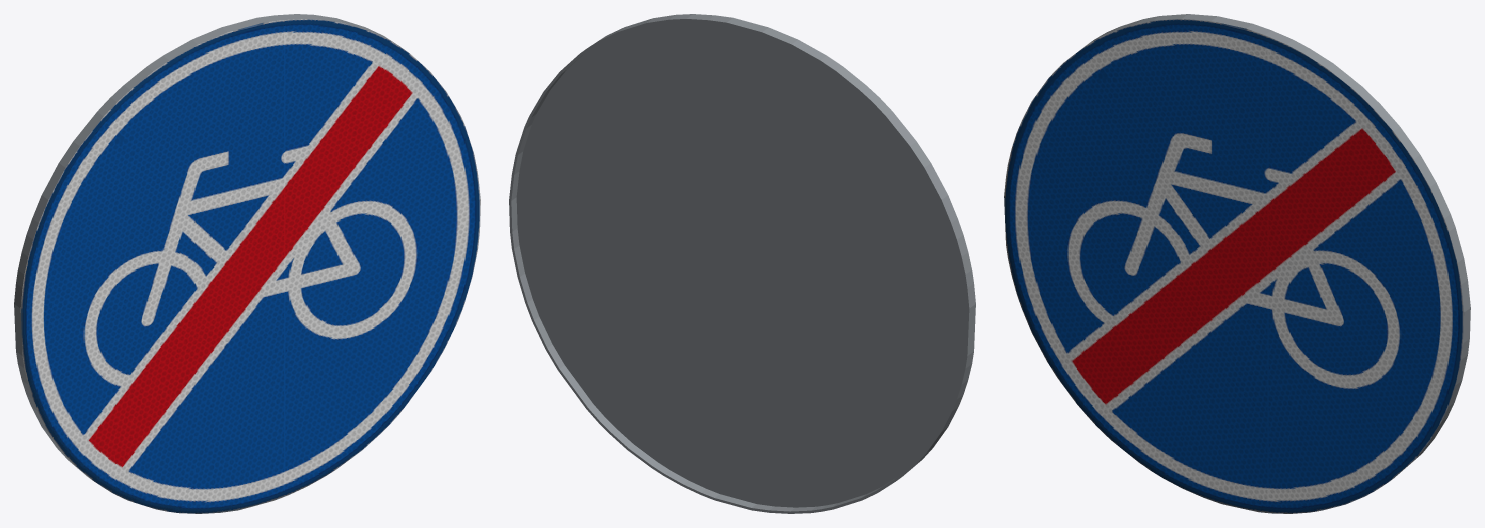
The picture shows the model from 3 angles, left to right: view 1: azimuth 30°, elevation 25°; view 2: azimuth 150°, elevation 25°; view 3: azimuth 330°, elevation 25°; orthographic projection.
Parts seen in each view (by area): view 1: cat_694b2542aed767f1; view 2: cat_694b2542aed767f1; view 3: cat_694b2542aed767f1.
Boxes of the visible parts, bbox=[...] form: cat_694b2542aed767f1: bbox=[14, 14, 480, 513]; cat_694b2542aed767f1: bbox=[509, 14, 975, 513]; cat_694b2542aed767f1: bbox=[1004, 14, 1470, 513].
Bounding box in the file's own units: 0.6 × 0.015 × 0.6.
Materials: 2 (1 with a texture image).
